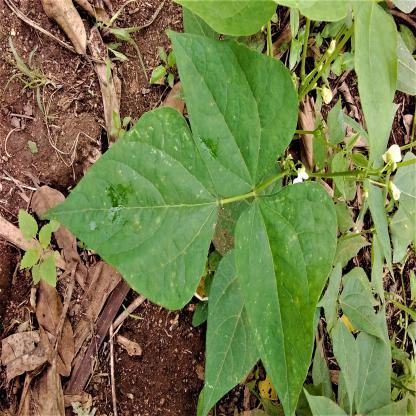Beans_Rust: (52, 106, 216, 288), (162, 27, 297, 201), (240, 200, 315, 416)
